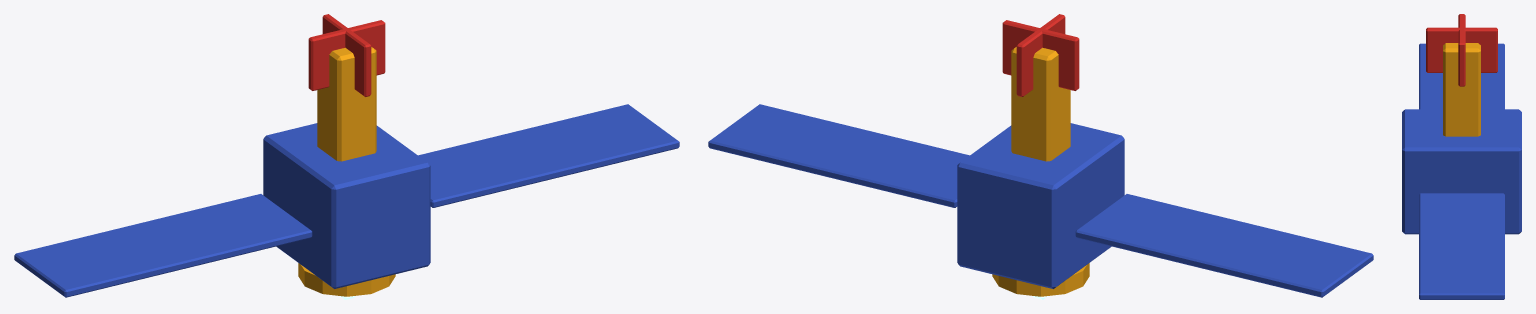
File: tool_orbital.fbx
The picture shows the model from 3 angles, left to right: view 1: azimuth 30°, elevation 25°; view 2: azimuth 150°, elevation 25°; view 3: azimuth 270°, elevation 25°; orthographic projection. The views are drawn at different scales.
Visible parts, largest first — view 1: Satellite, Bolt; view 2: Satellite, Bolt; view 3: Satellite, Bolt.
Boxes of the visible parts, x1,y1,x2,y2 form: Satellite: (14, 104, 679, 299); Bolt: (308, 14, 385, 161); Satellite: (708, 104, 1373, 299); Bolt: (1002, 14, 1079, 161); Satellite: (1402, 43, 1521, 299); Bolt: (1426, 14, 1497, 136).
Bounding box in the file's own units: 24.8 × 10.3 × 5.
